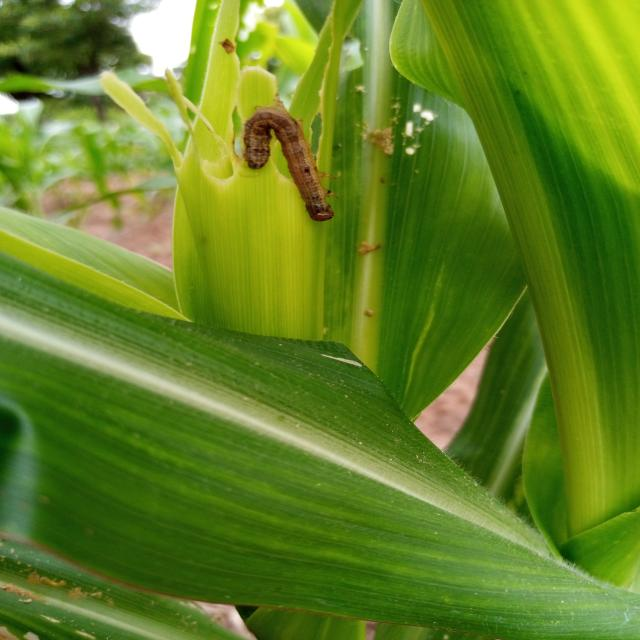yellow-stem-borer-larva: (233, 91, 348, 231)
